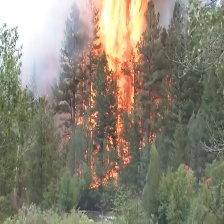fire: (63, 0, 175, 189)
